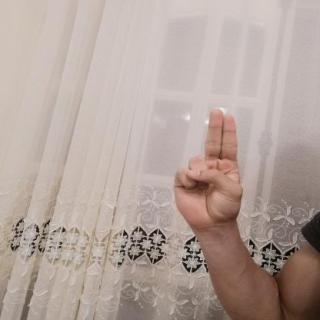TA: (165, 100, 253, 236)
